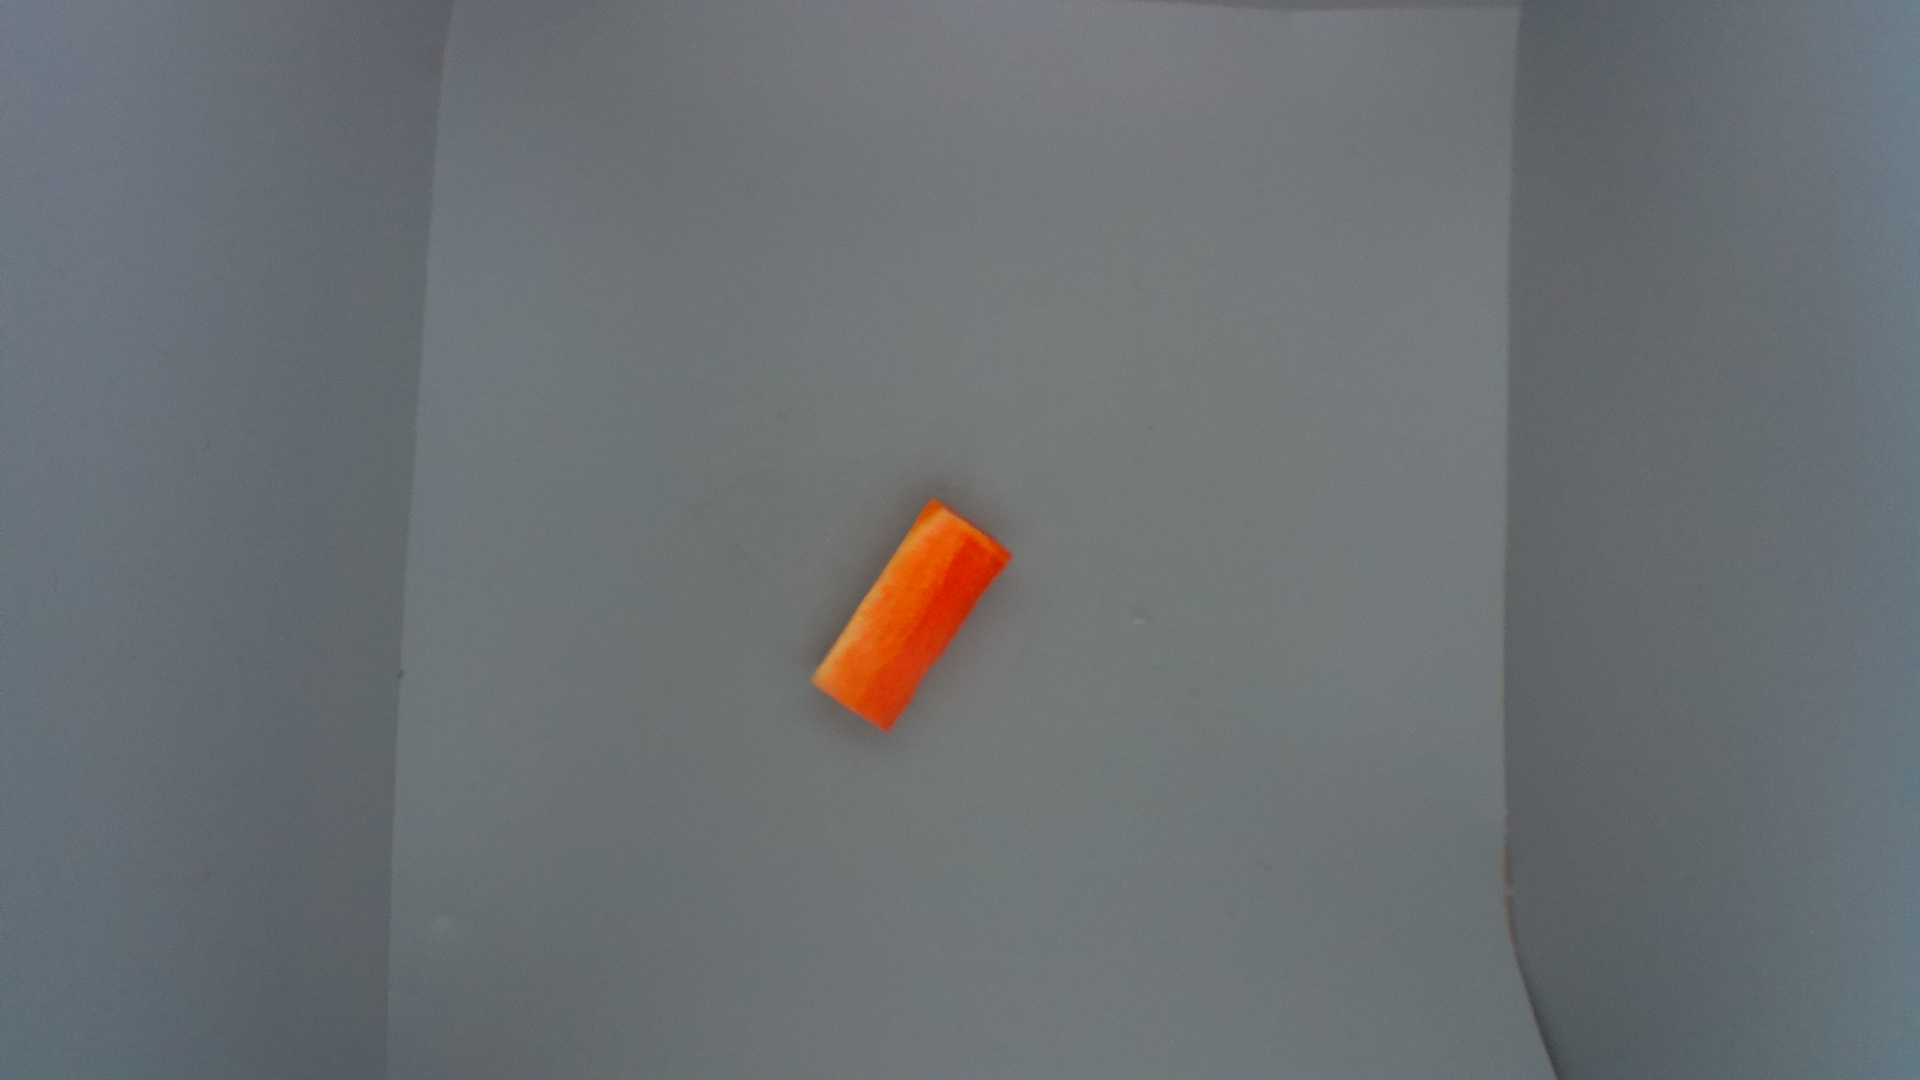carrot: (808, 495, 1015, 738)
